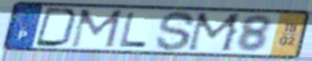8: (235, 13, 273, 55)
D: (33, 6, 81, 49)
L: (118, 11, 149, 49)
M: (184, 12, 245, 54), (68, 8, 125, 50)
S: (153, 10, 198, 53)
